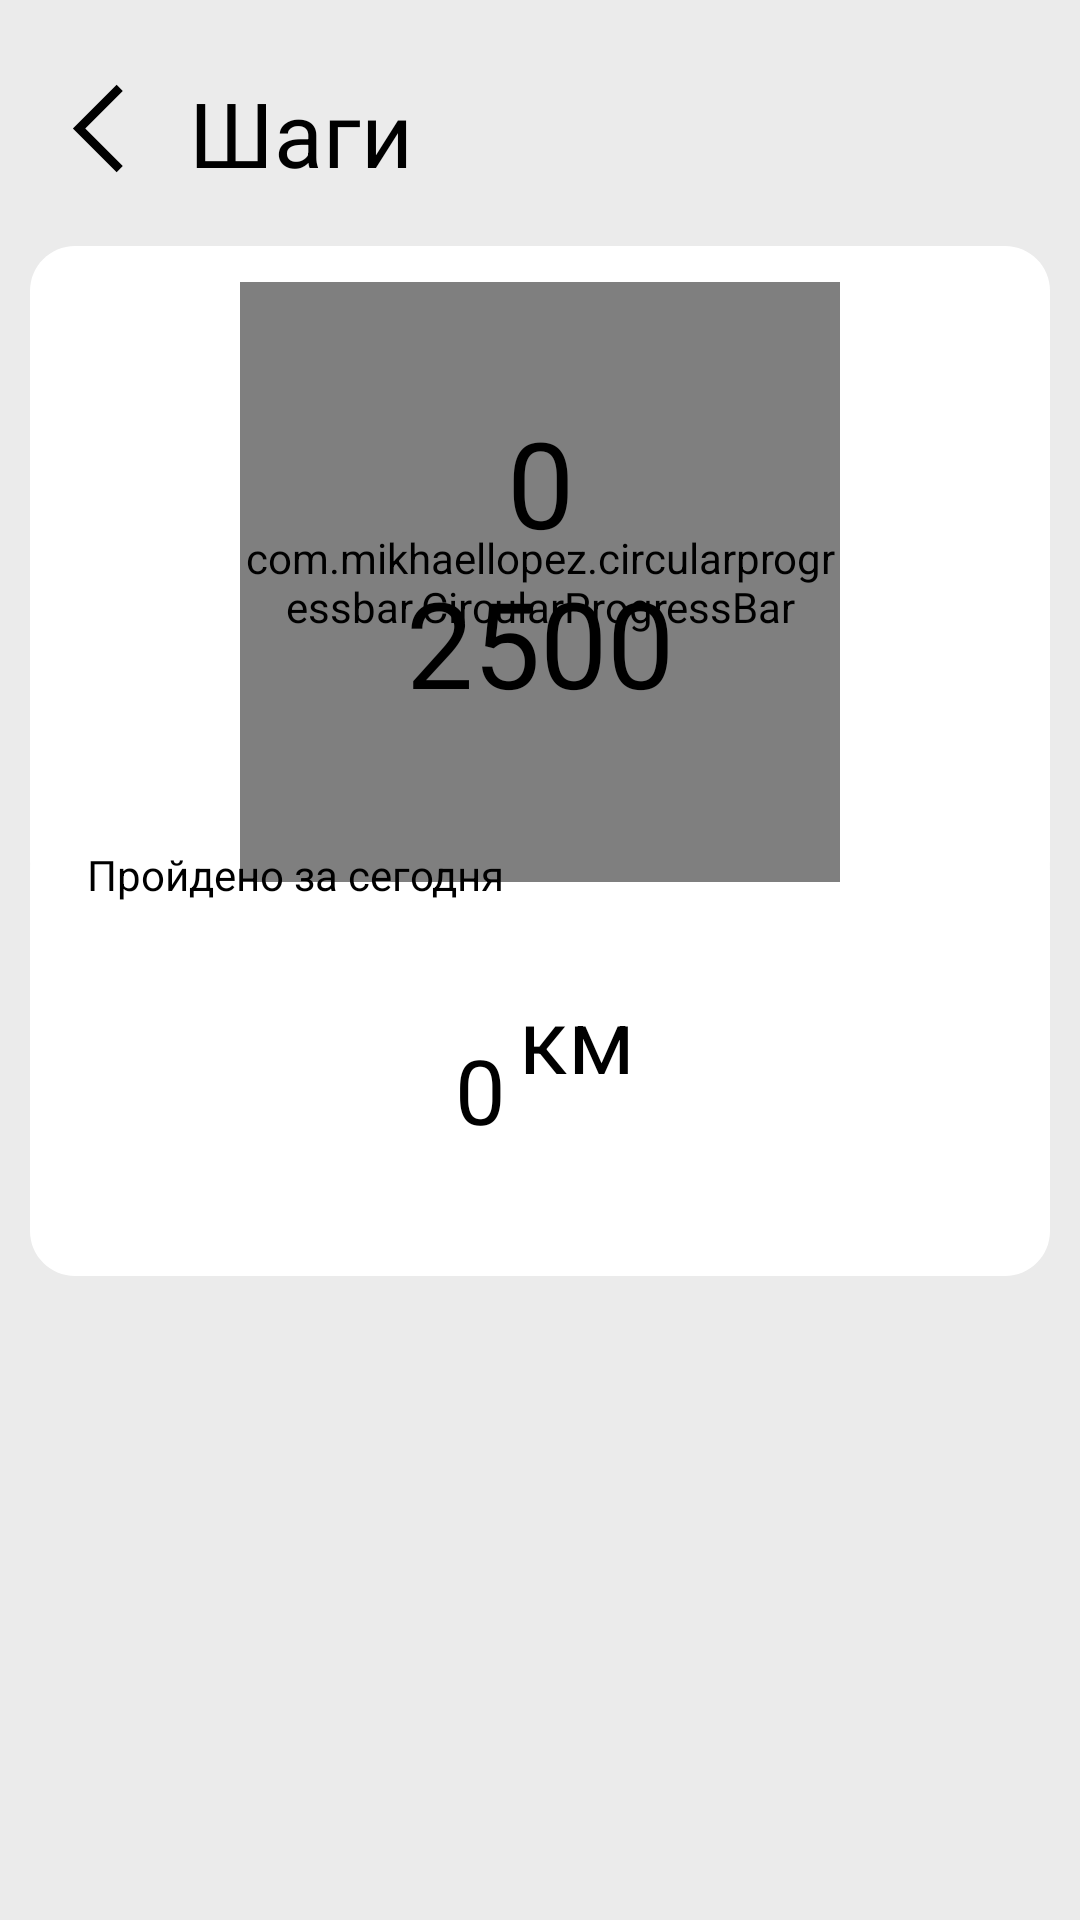

Icons on this 1080*1920 Android screen, each with its box as (x1, y1, x2, y2):
arrow back: (73, 85, 123, 172)
